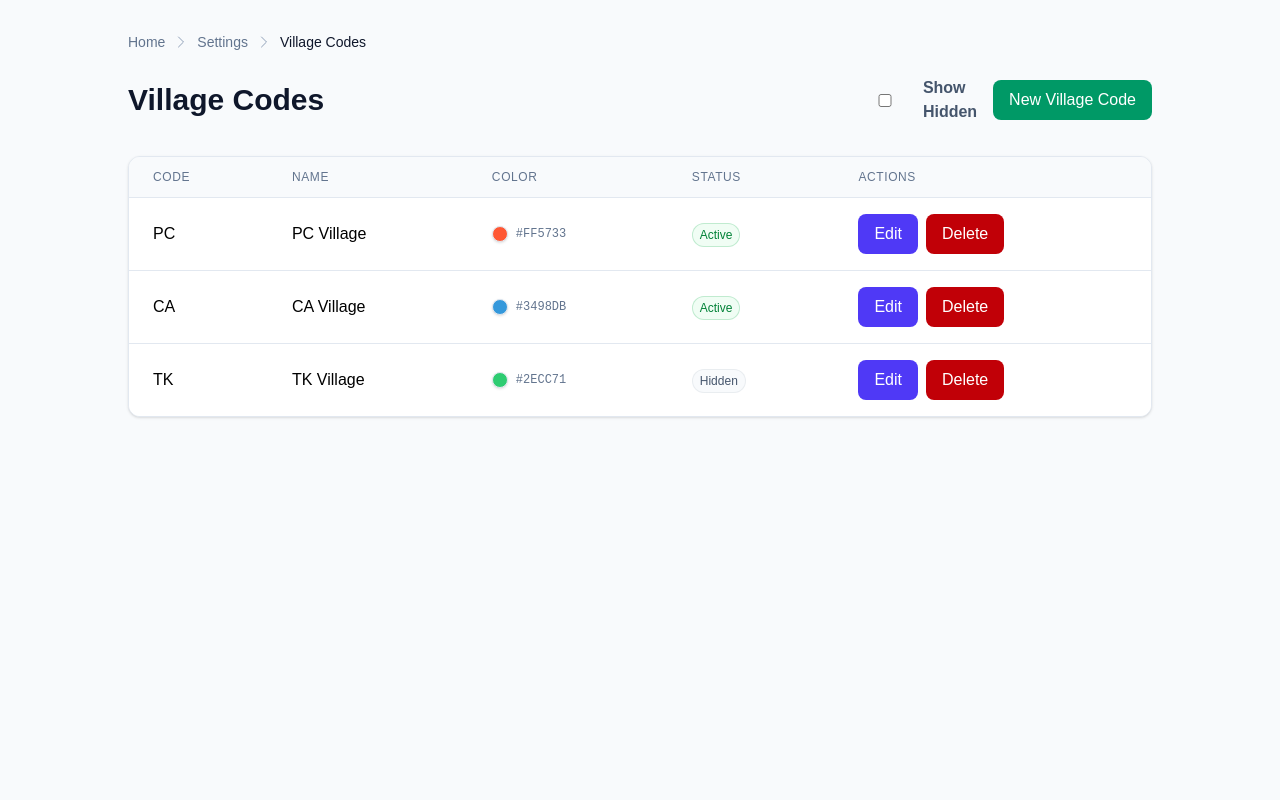
Test: VillageCodesPage › closes form when cancel button is clicked
This screenshot has width=1280, height=800.
Click the button "New Village Code".
click(1073, 100)  # box [993,80,1152,120]
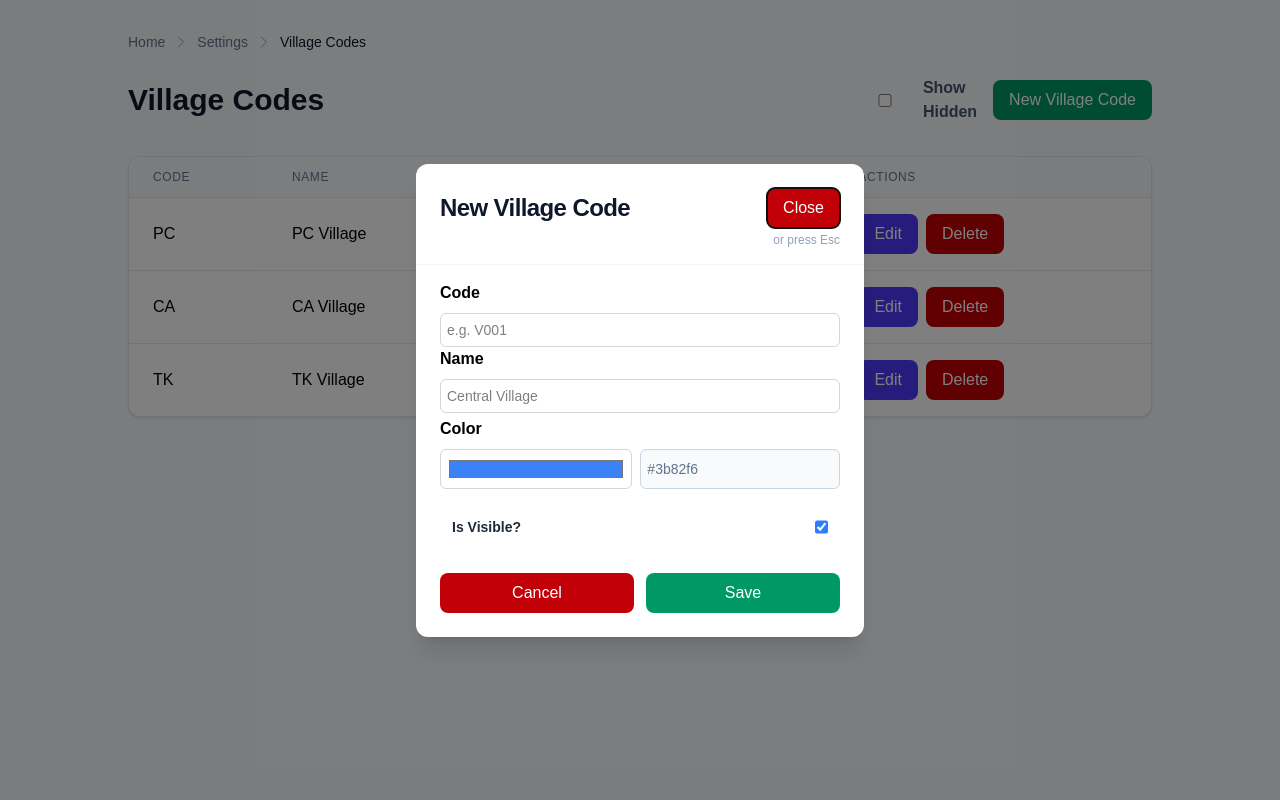
Now the dialog is shown, box [416,164,864,636]
Click the button "Cancel".
click(537, 592)  # box [440,572,634,612]
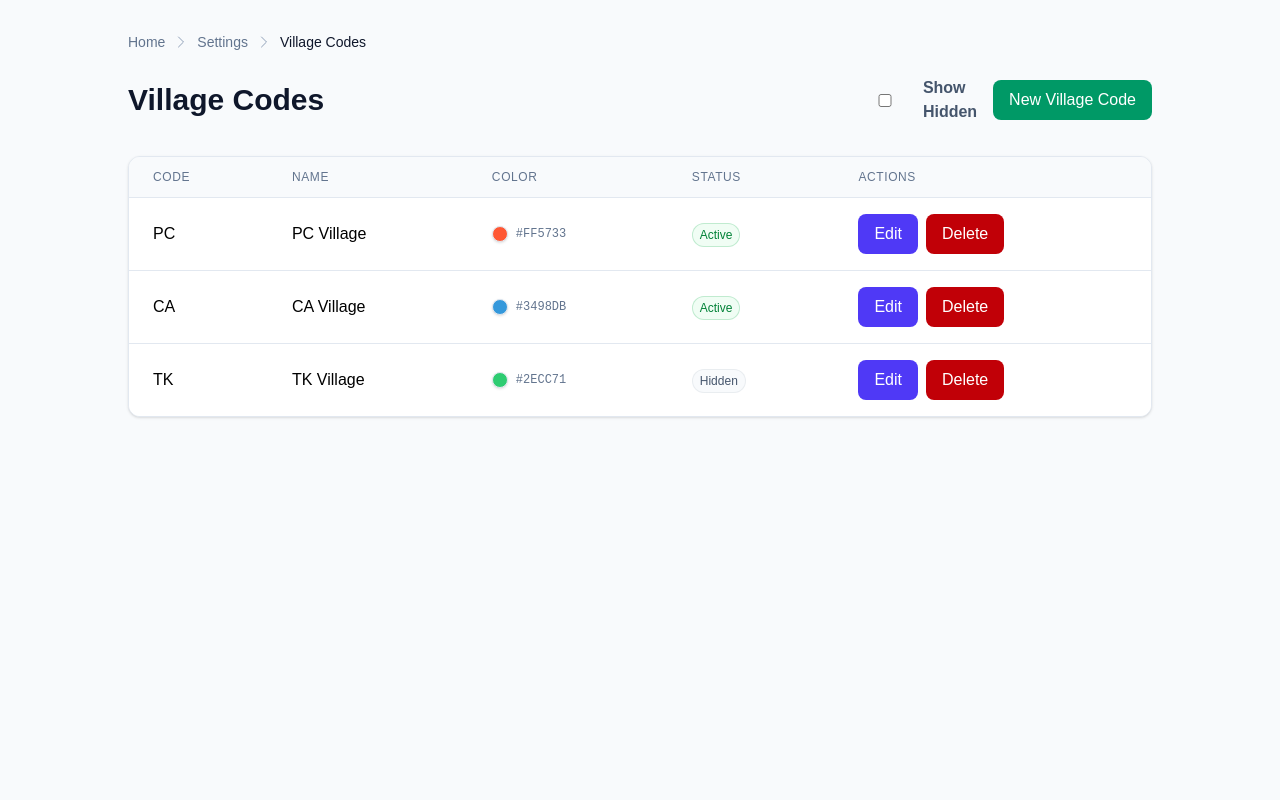
Now the dialog is gone
